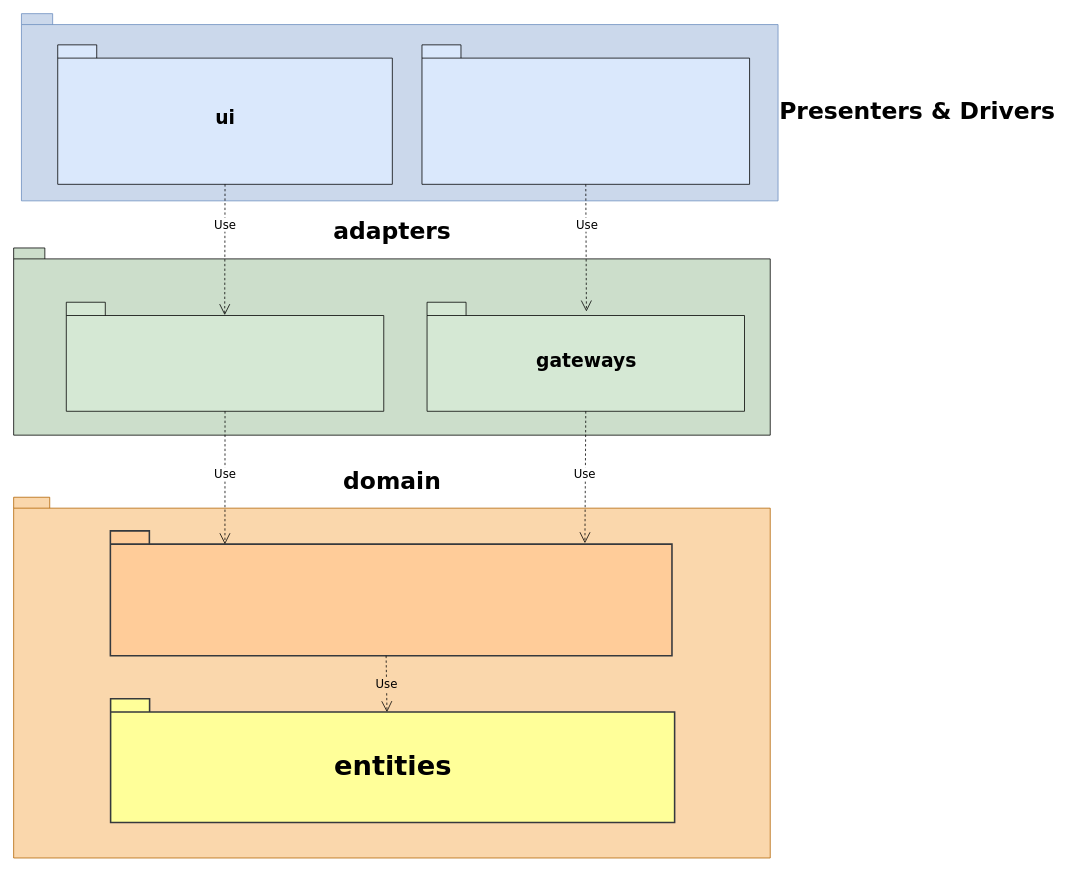
The diagram is 1069 pixels wide and 872 high, and some of its shapes have lost their labels. The shapes that lost their labels are listed below. From the top down, each one's box as (x1, y1, x2, y2) in pixels, then its label:
(421, 44, 750, 184): api
(66, 301, 384, 411): presenters
(109, 530, 672, 656): usecases
